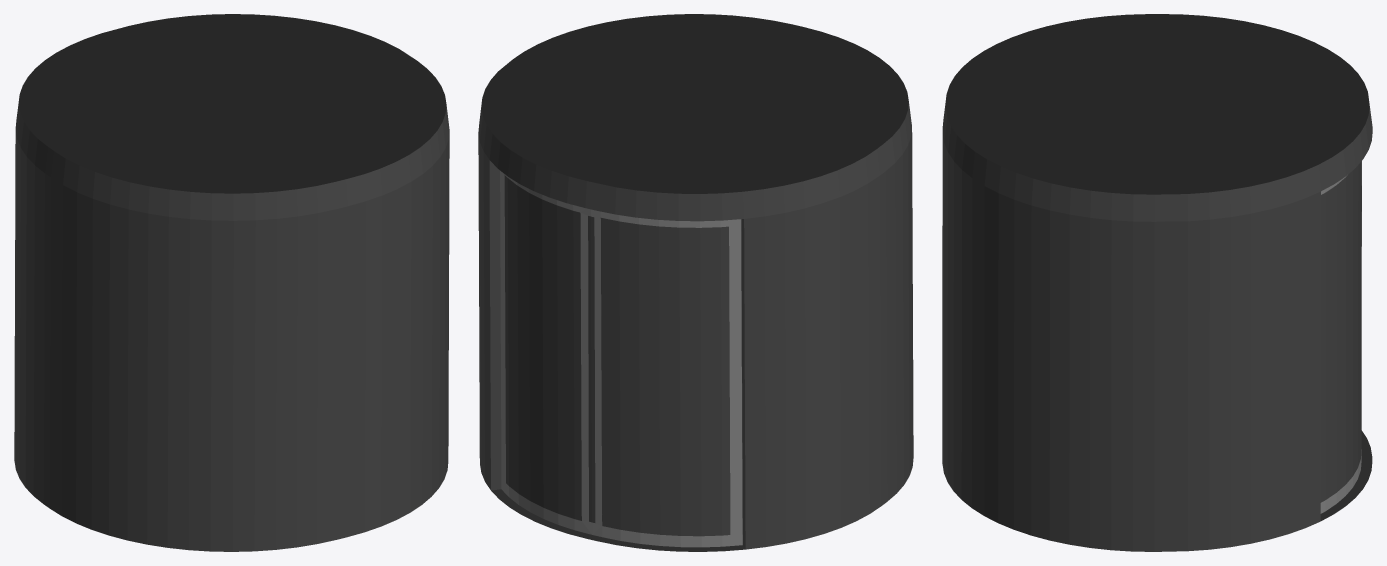
The model's file is ascensor 1.fbx.
3 views of the same model, side by side, from view 1: azimuth 30°, elevation 25°; view 2: azimuth 150°, elevation 25°; view 3: azimuth 270°, elevation 25° (orthographic).
Parts seen in each view (by area): view 1: Ascensor; view 2: Ascensor, Ascensor.001, Ascensor.002; view 3: Ascensor, Ascensor.002.
Part boxes in pixels (x1,y1,x2,y2): Ascensor: (14,14,449,551); Ascensor: (478,14,913,551); Ascensor.001: (591,209,742,547); Ascensor.002: (500,170,592,534); Ascensor: (942,14,1372,551); Ascensor.002: (1320,161,1361,513).
Size of the model in its own units: 359 by 329 by 358.
Materials: 1 (1 with a texture image).
